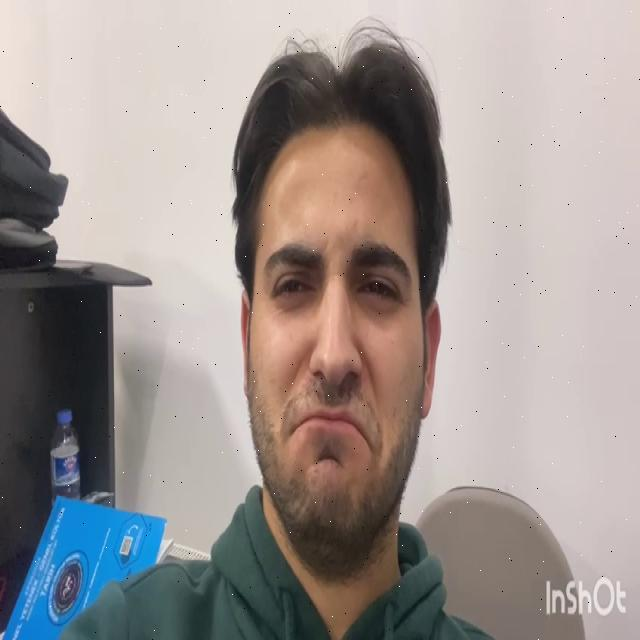sad: (240, 121, 440, 519)
